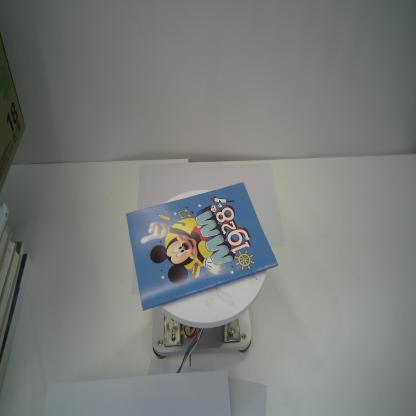Stationery: (126, 182, 279, 312)
